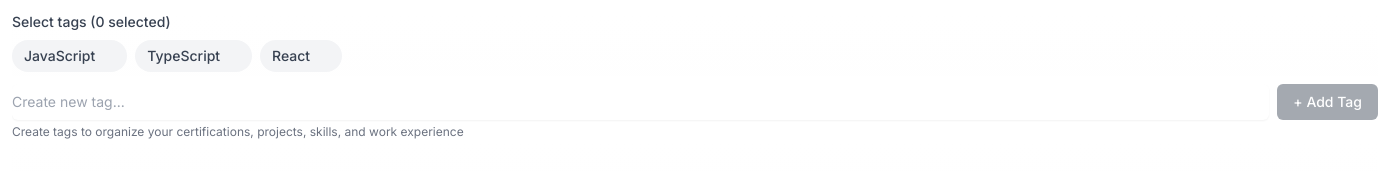
Test case: TagSelector › creating tags › should disable button while creating
This screenshot has width=1390, height=172.
Expected: the button "JavaScript" is shown, [12,40,127,72]
Step 1. Type "NewTag" into the field with placeholder "Create new tag..." → {"x": 641, "y": 102}, box [12,84,1269,120]
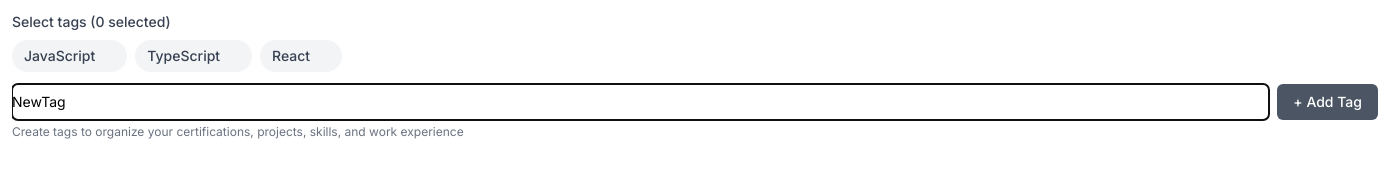
Step 2. Click the button "+ Add Tag" → {"x": 1328, "y": 102}, box [1277,84,1378,120]
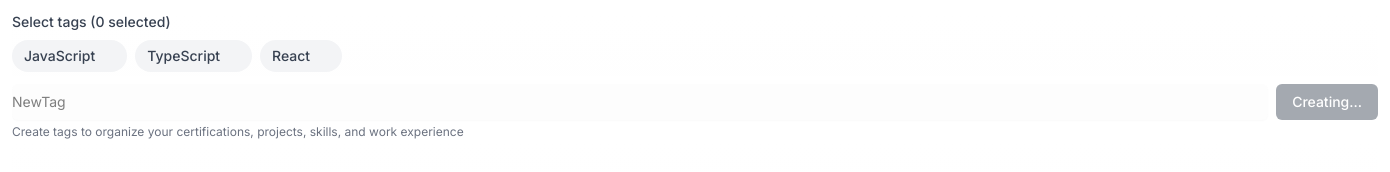
Expected: the button "Creating..." is disabled, [1276,84,1378,120]
